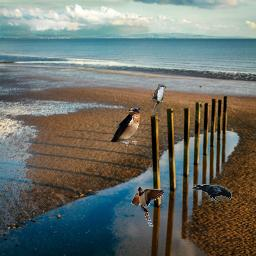Crow: (192, 184, 232, 202)
Cuckoo: (151, 84, 166, 124)
Swallow: (131, 187, 164, 227), (110, 106, 140, 146)
